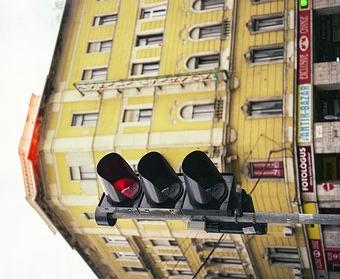trafic: (95, 152, 233, 223)
